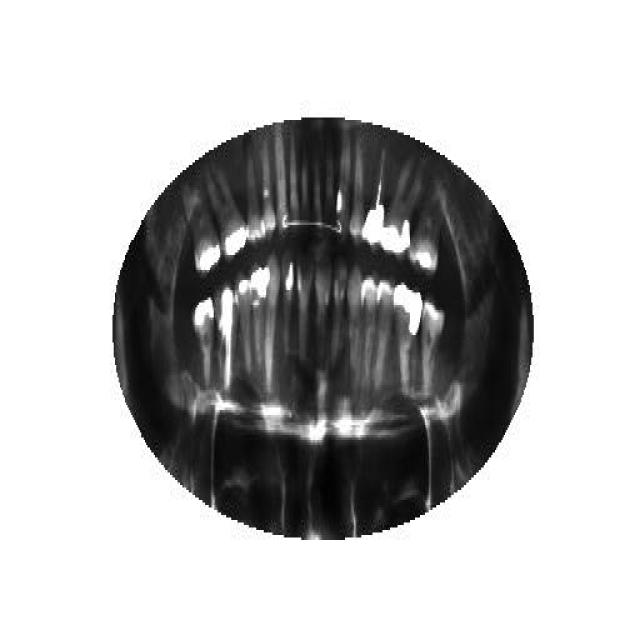Fillings: (382, 160, 422, 262), (206, 165, 248, 260), (408, 183, 448, 275), (391, 280, 421, 398), (184, 182, 220, 278), (190, 295, 216, 387), (264, 253, 280, 395), (280, 248, 296, 360), (235, 280, 253, 372), (250, 260, 264, 368)
Implant: (362, 145, 386, 250), (217, 287, 235, 395)
